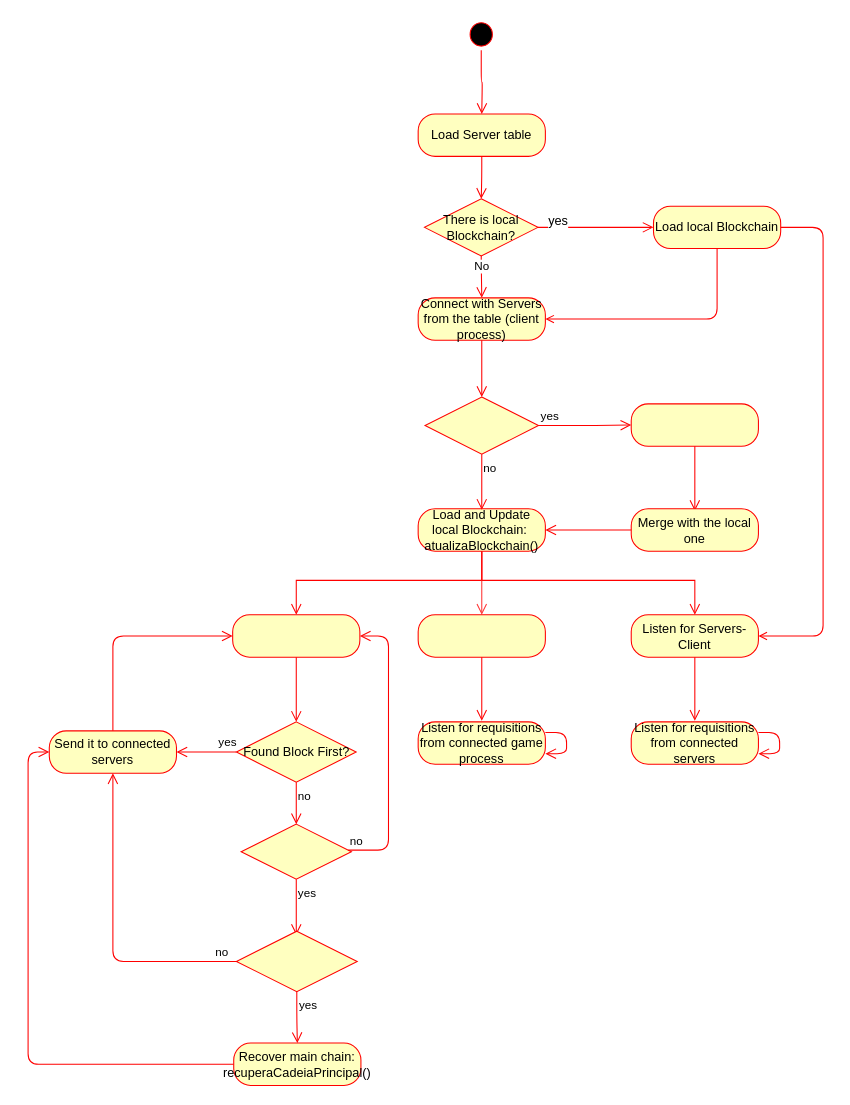
The diagram is 850 pixels wide and 1105 high, and some of its shapes have lost their labels. Here are the shapes that lost their labels. From the top down, the box of each, then its label:
(424, 396, 538, 454): First connection?
(630, 403, 758, 446): Get Server List
(232, 614, 360, 657): Forge next Block: generatePOS()
(417, 614, 545, 657): Listen for Game-Client
(240, 823, 351, 879): Received Block is valid?
(235, 930, 357, 992): Main chain surpassed?
